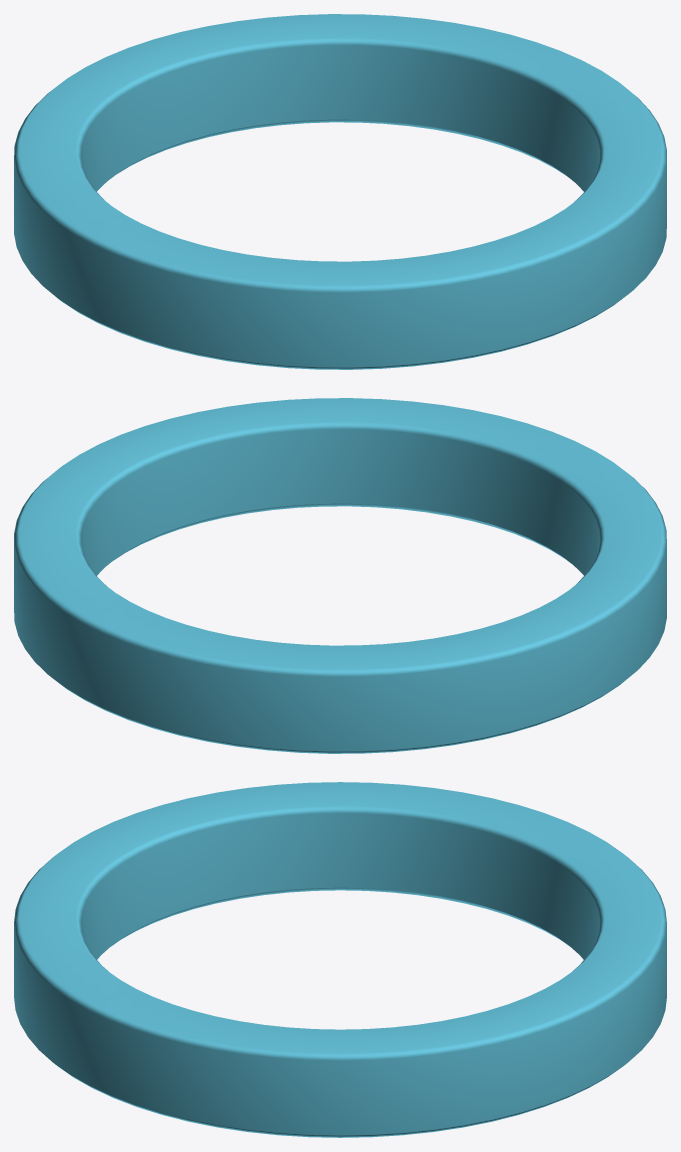
3 views of the same model, one above another, from view 1: azimuth 30°, elevation 25°; view 2: azimuth 150°, elevation 25°; view 3: azimuth 270°, elevation 25° (orthographic).
Visible parts, largest first — view 1: seal_body; view 2: seal_body; view 3: seal_body.
Part boxes in pixels (x1,y1,x2,y2): seal_body: [14, 14, 666, 369]; seal_body: [14, 398, 666, 753]; seal_body: [14, 782, 666, 1137].
Bounding box in the file's own units: 0.063 × 0.009 × 0.063.
